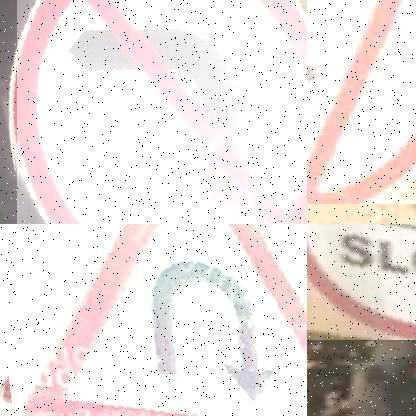No left turn: (18, 0, 307, 224)
Slow: (307, 224, 416, 340)
U-Turn: (16, 224, 307, 416)
